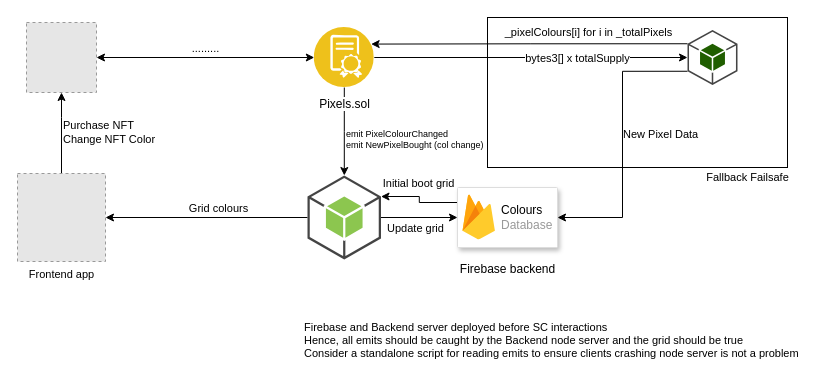
Some shapes in this 830 by 380 pixel diagram are drawn without their labels. Grey dashed boxes stand in for pictures. The shapes that lost their labels are listed below. From the top down, each one's centre as x and y in pixels, then its label:
the point at 712,57: Backup JS script
the point at 343,217: Backend server
